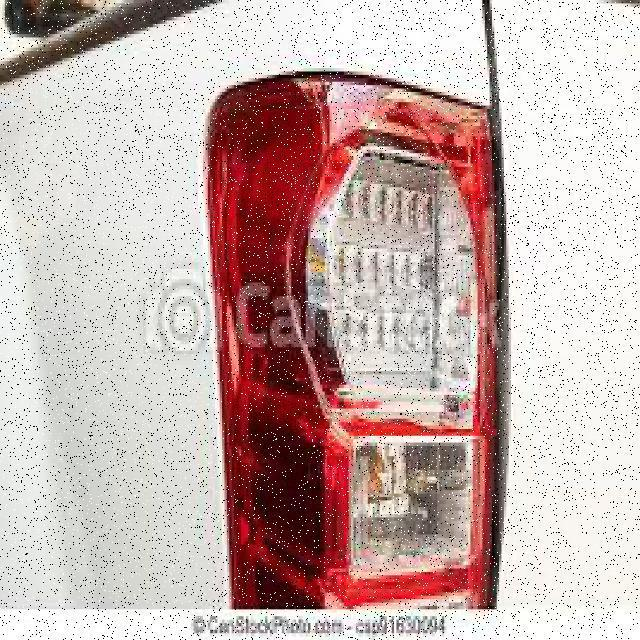Taillight-Damage: (196, 61, 500, 603)
